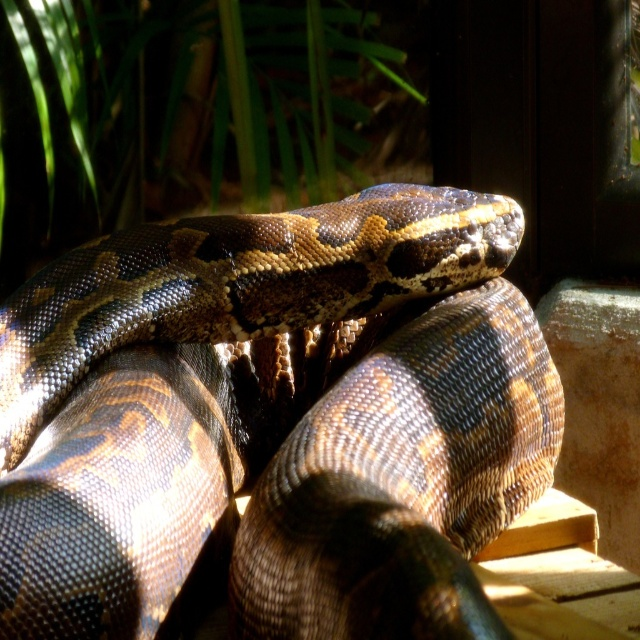Snake: (0, 179, 566, 637)
